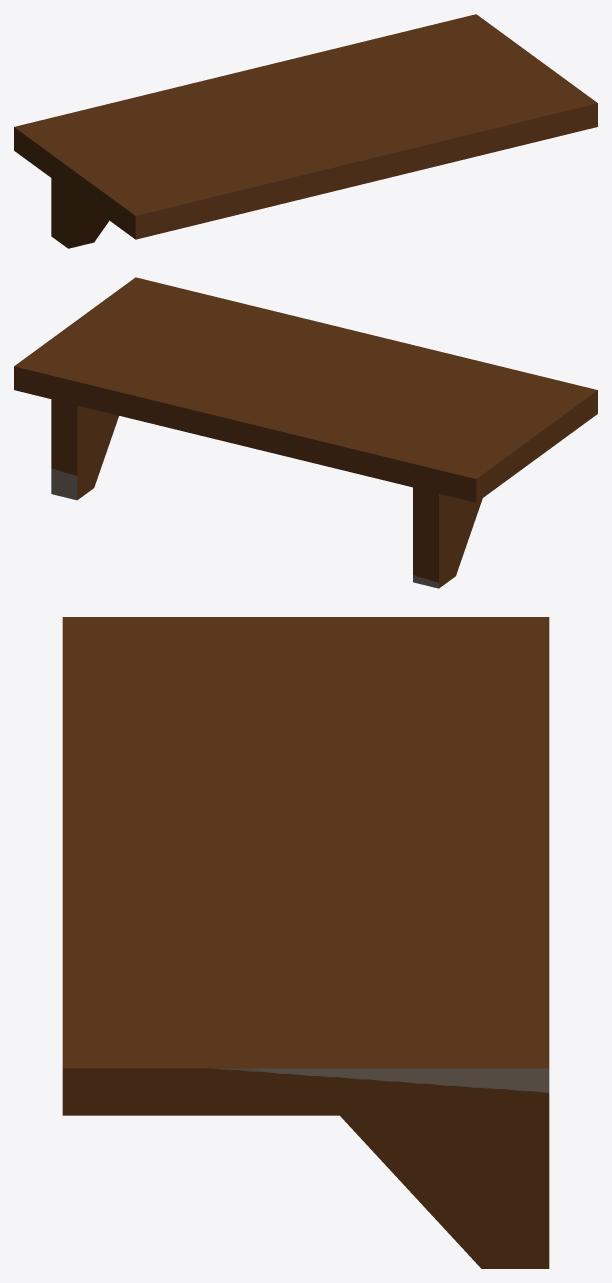
The model's file is Shelf.fbx.
3 views of the same model, one above another, from view 1: azimuth 30°, elevation 25°; view 2: azimuth 150°, elevation 25°; view 3: azimuth 270°, elevation 25° (orthographic). The views are drawn at different scales.
Visible parts, largest first — view 1: Shelf; view 2: Shelf; view 3: Shelf.
Boxes of the visible parts, <box> form: Shelf: <box>14,14,597,248</box>; Shelf: <box>14,277,597,588</box>; Shelf: <box>62,617,549,1268</box>.
Bounding box in the file's own units: 1.52 × 0.3738 × 0.6951.
